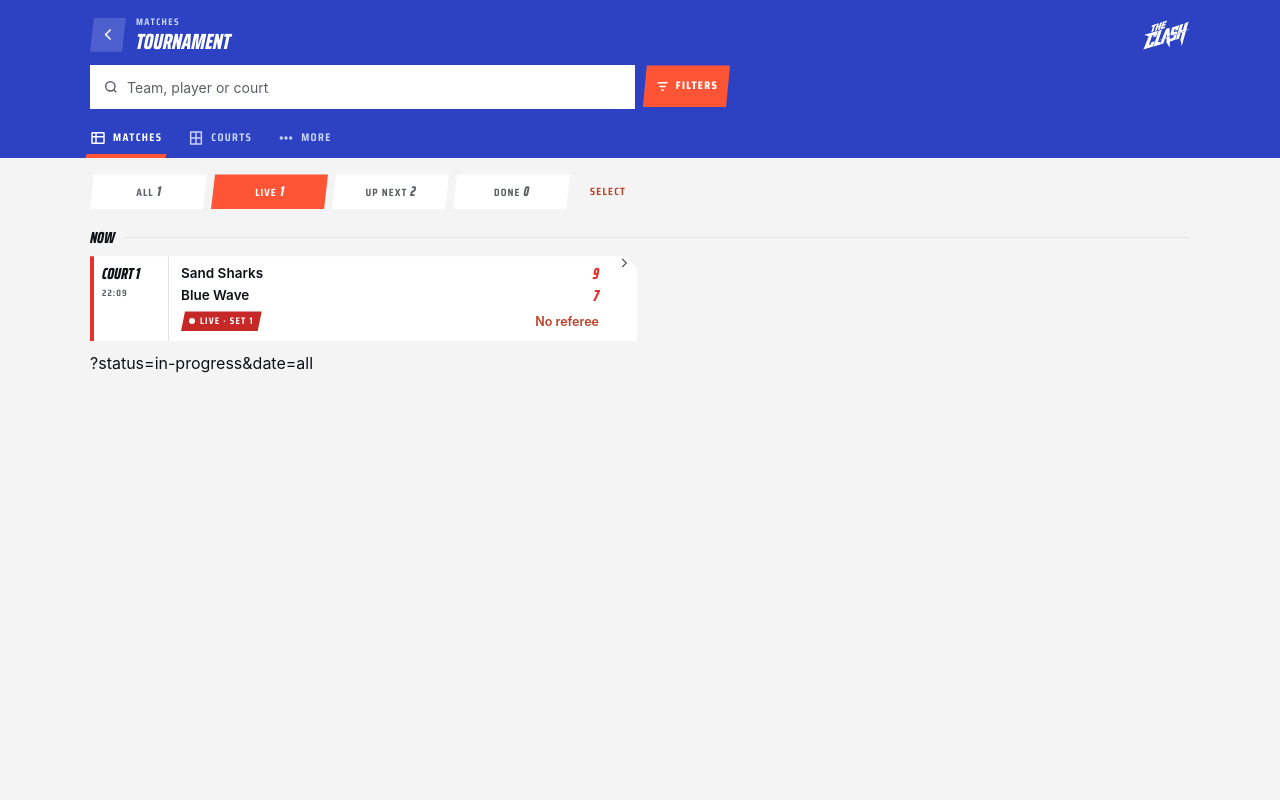
it: long-pressing a row as an admin starts select mode: 1 selected, and the bulk bar replaces the tabs
The image size is (1280, 800).
Press the mouse on the text "Sand Sharks" at (222, 273), box [181,265,263,281]
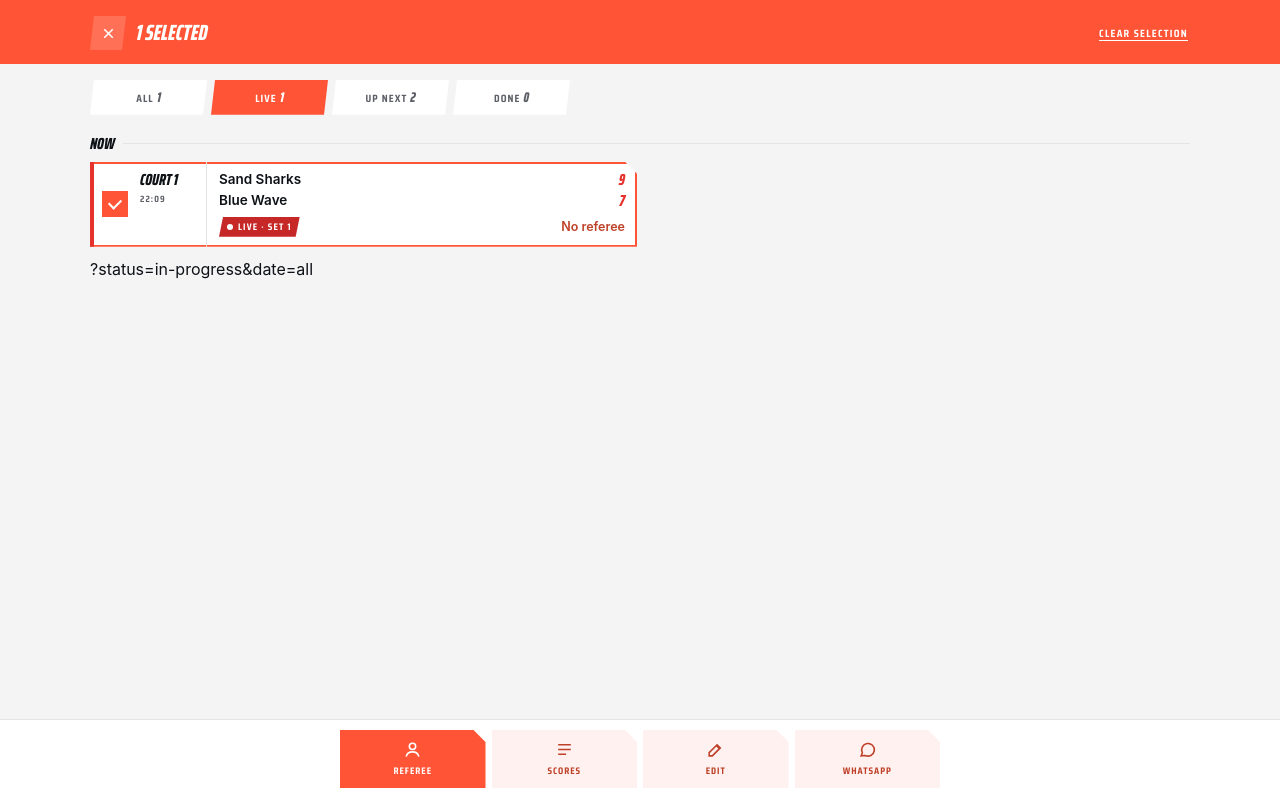
expect the heading "1 selected" is shown: met, box [136,16,208,50]
expect the button "Referee" is enabled: met, box [340,730,486,788]
expect the button "Scores" is enabled: met, box [492,730,637,788]
Click the checkbox labelled "Sand Sharks" at (364, 204), box [90,162,637,247]
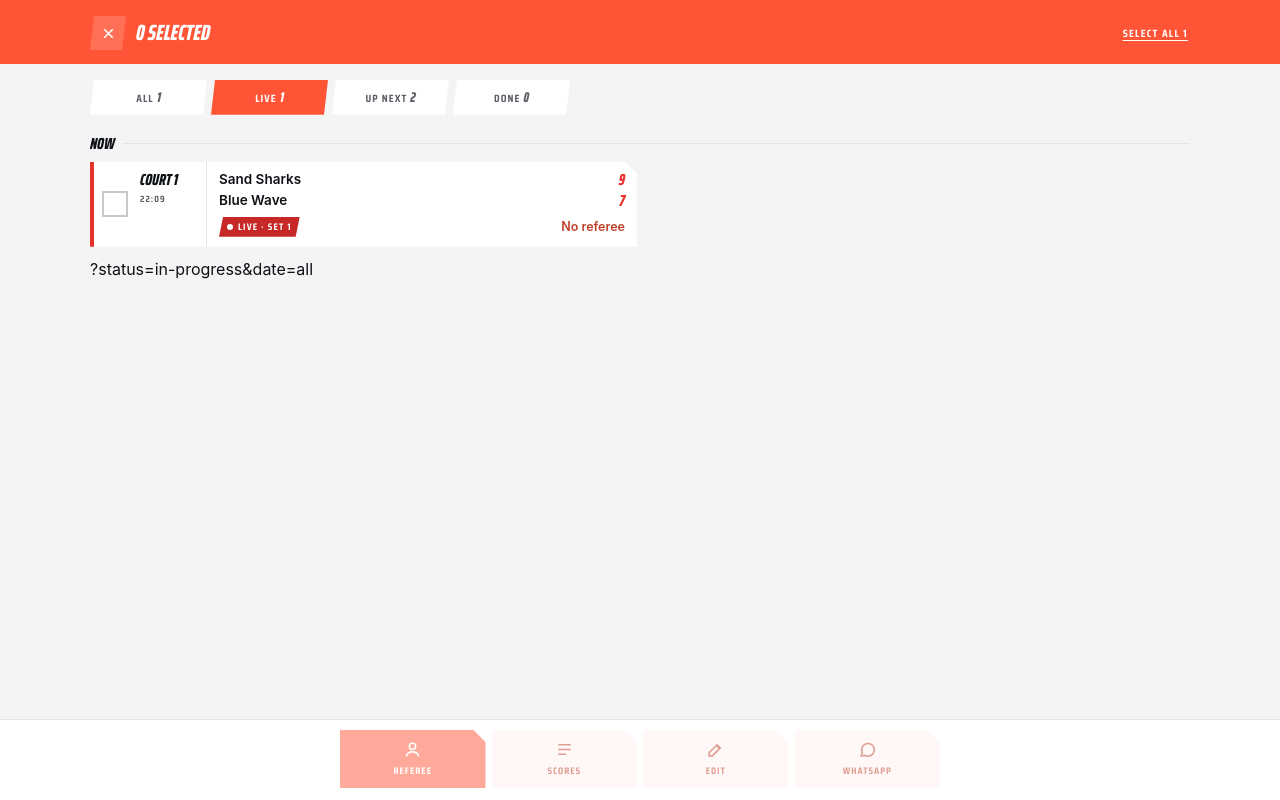
expect the heading "0 selected" is shown: met, box [136,16,210,50]
expect the button "Referee" is disabled: met, box [340,730,486,788]
Click the button named "Exit select mode" at (108, 33), box [86,11,130,55]
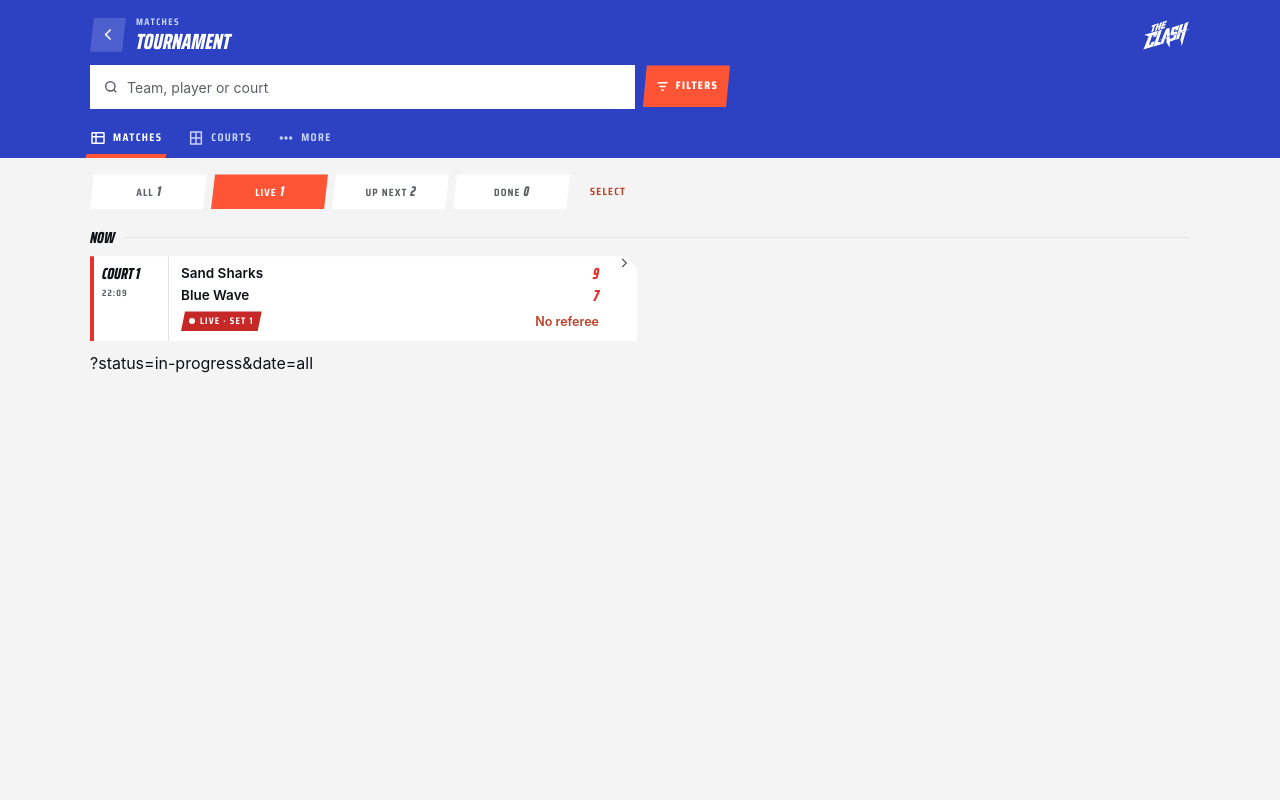
expect the number of navigation bars named "Sections" is 2: met
expect the search field named "Search matches" is shown: met, box [127,66,630,108]
